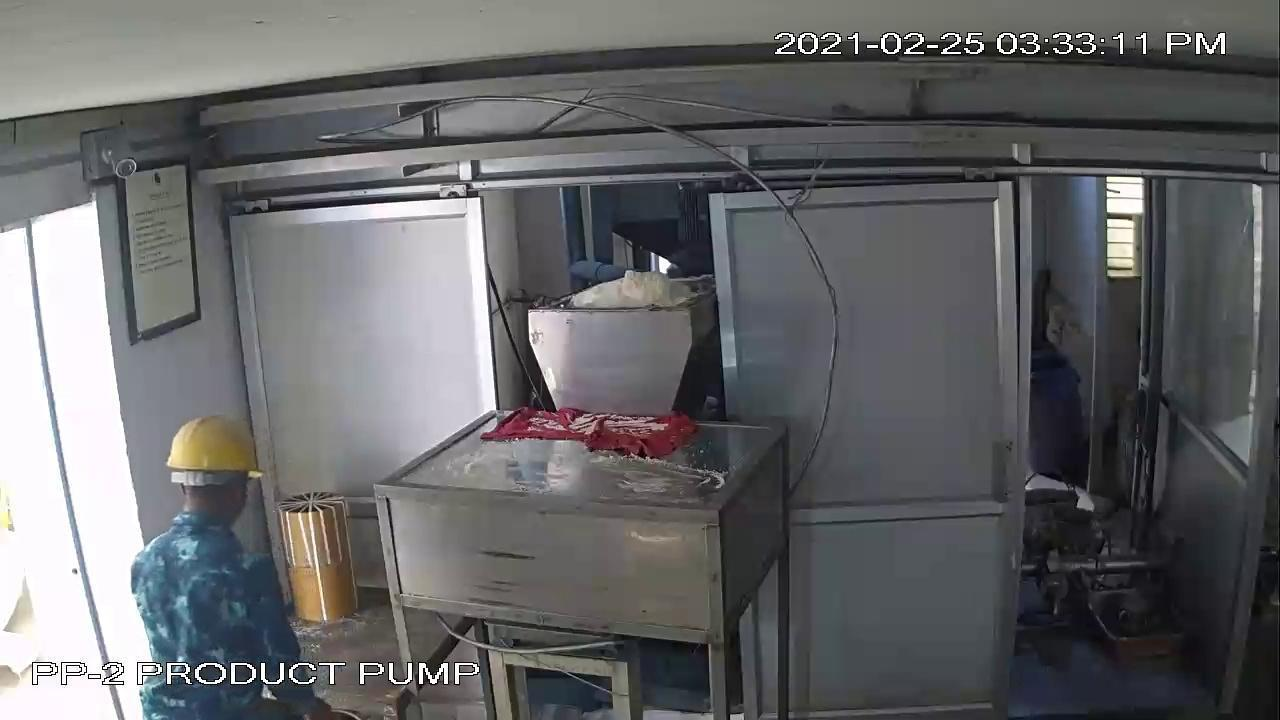helmet: (156, 406, 263, 481)
